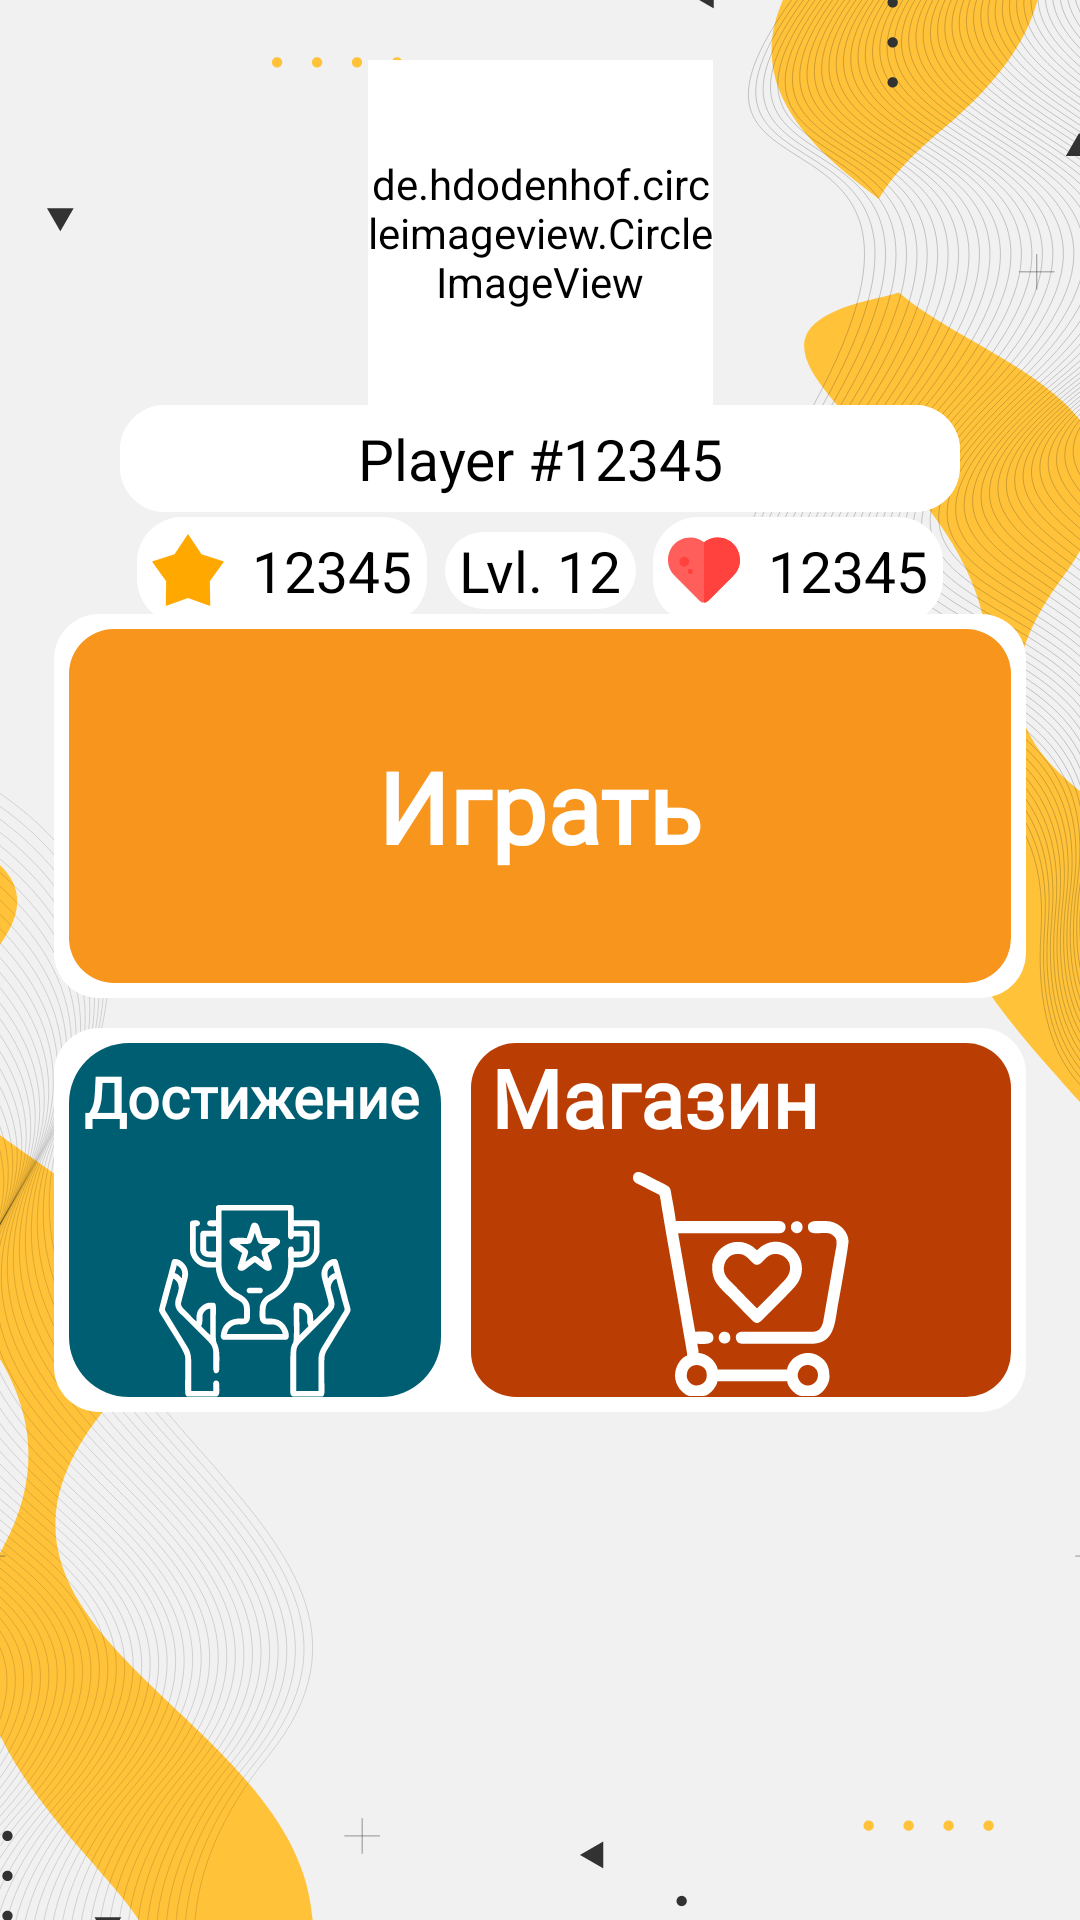

Icons on this 1080px x 1920px Android screen, each with the point to tap as (x=x, y=y):
achivements: (x=255, y=1272)
